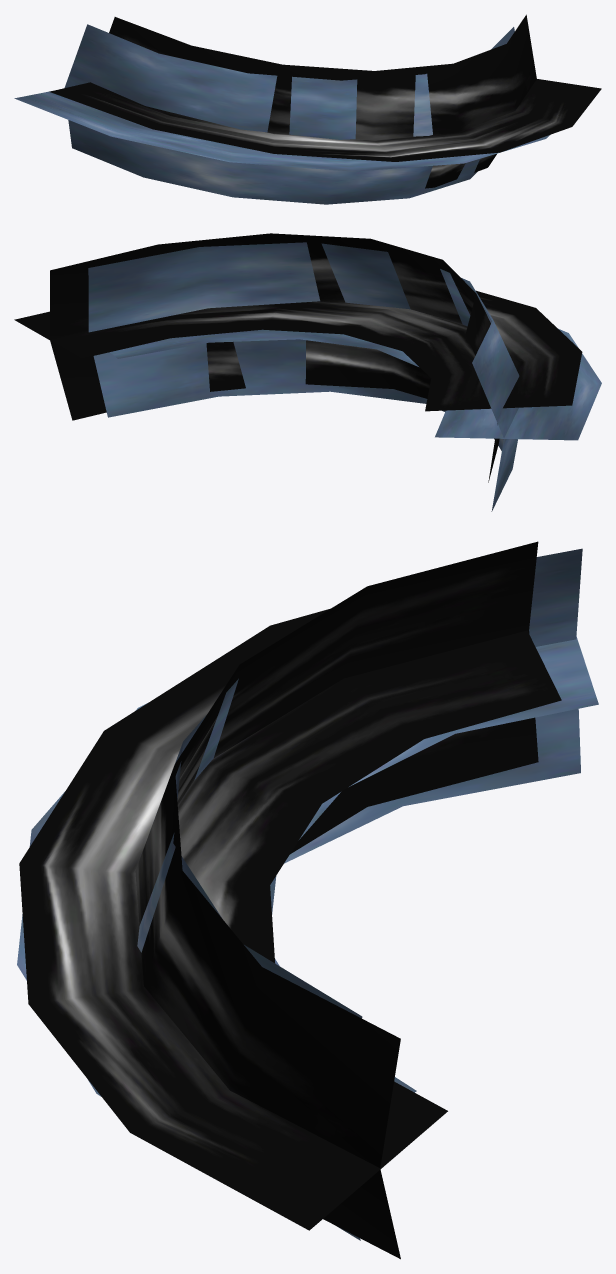
Rendered from Effect_2205tattack.fbx.
The picture shows the model from 3 angles, top to bottom: view 1: azimuth 30°, elevation 25°; view 2: azimuth 150°, elevation 25°; view 3: azimuth 270°, elevation 25°; orthographic projection. The views are drawn at different scales.
Parts seen in each view (by area): view 1: Effect_2205tattack02, Effect_2205tattack01; view 2: Effect_2205tattack01, Effect_2205tattack02; view 3: Effect_2205tattack01, Effect_2205tattack02.
Part boxes in pixels (x1,y1,x2,y2): Effect_2205tattack02: [14, 24, 550, 204]; Effect_2205tattack01: [49, 14, 601, 188]; Effect_2205tattack01: [14, 233, 582, 482]; Effect_2205tattack02: [88, 242, 601, 511]; Effect_2205tattack01: [19, 541, 561, 1259]; Effect_2205tattack02: [17, 548, 598, 1240].
Bounding box in the file's own units: 4.31 × 1.44 × 2.06.
2 materials, 2 textured.
